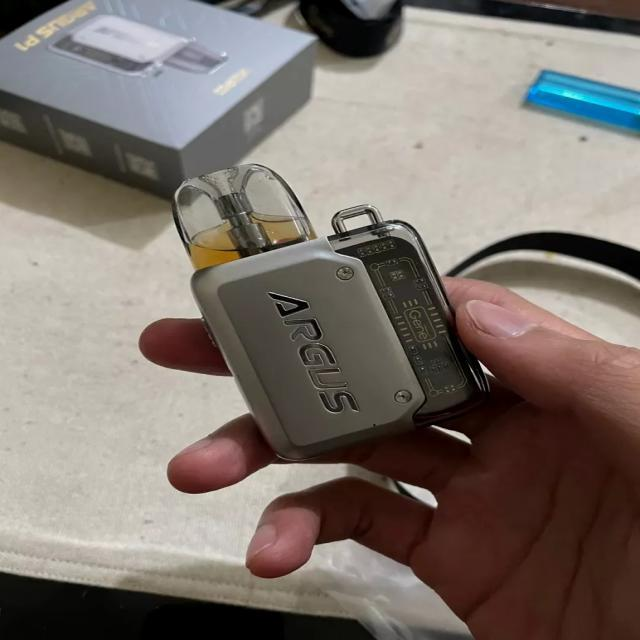Hazard: (170, 164, 493, 464)
